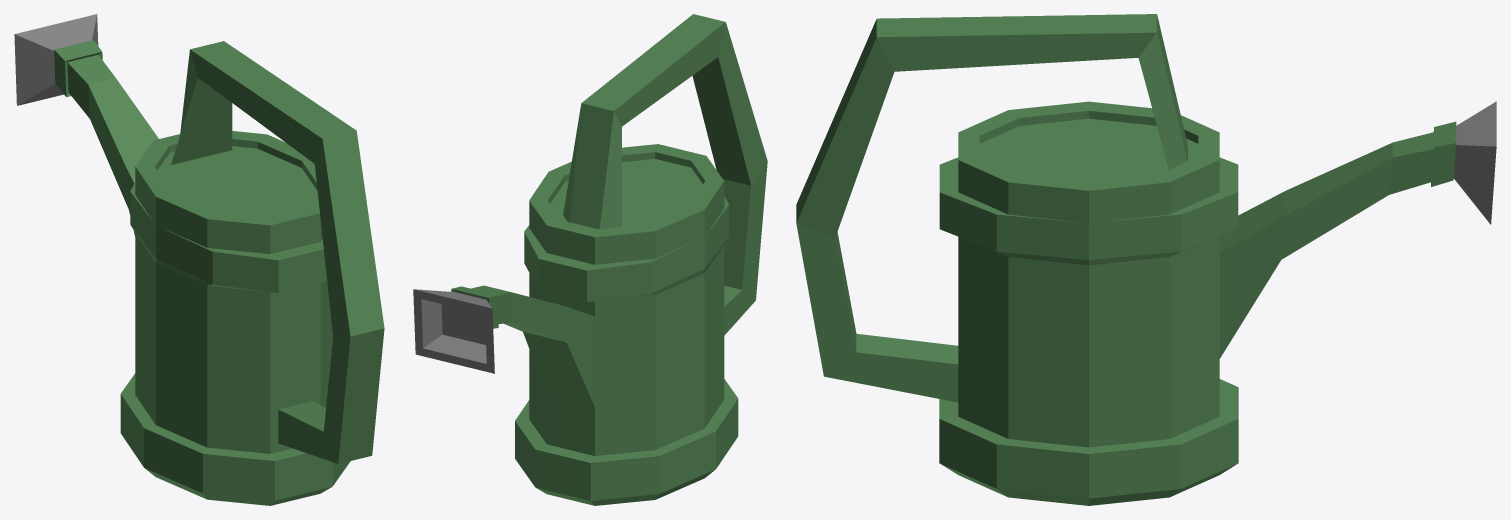
File: arrosoire.fbx
3 renders of one model, left to right at view 1: azimuth 30°, elevation 25°; view 2: azimuth 150°, elevation 25°; view 3: azimuth 270°, elevation 25°, orthographic. The views are drawn at different scales.
Parts seen in each view (by area): view 1: arrosoire; view 2: arrosoire; view 3: arrosoire.
Part boxes in pixels (x1=…): arrosoire: x1=14, y1=14, x2=384, y2=505; arrosoire: x1=413, y1=14, x2=767, y2=505; arrosoire: x1=796, y1=14, x2=1496, y2=505.
Size of the model in its own units: 2.29 by 4.58 by 6.63.
